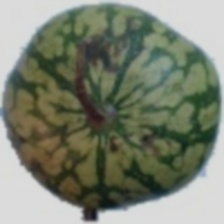watermelon: (1, 19, 183, 182)
